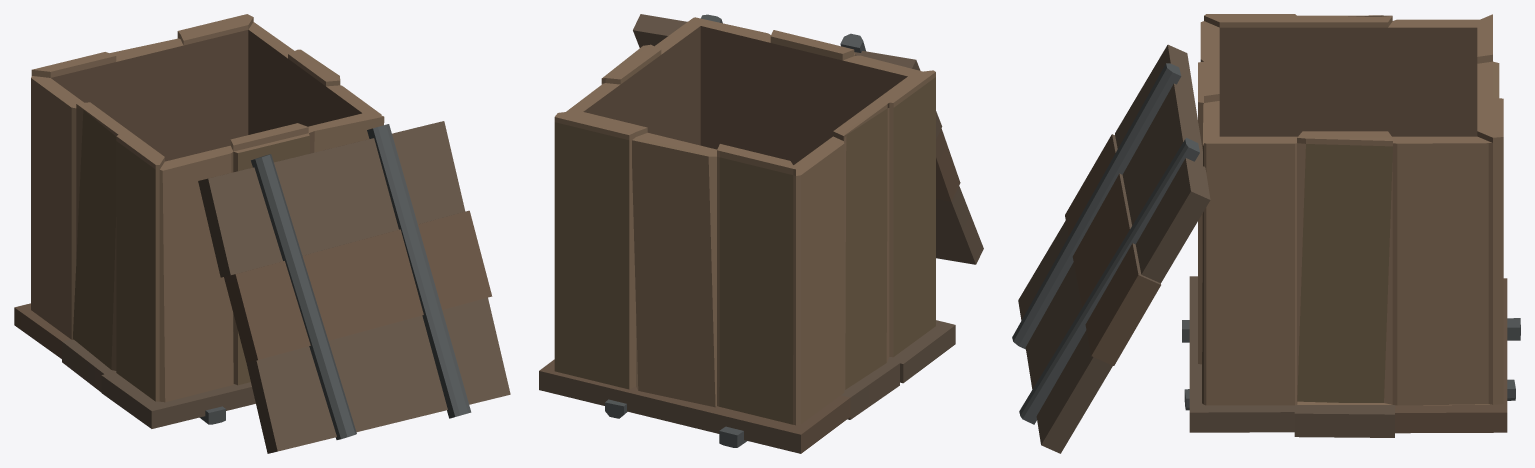
File: openCrate.fbx
The picture shows the model from 3 angles, left to right: view 1: azimuth 30°, elevation 25°; view 2: azimuth 150°, elevation 25°; view 3: azimuth 270°, elevation 25°; orthographic projection. The views are drawn at different scales.
Parts seen in each view (by area): view 1: createBody, crateTop, crateBottom, metalBar1, metalBar; view 2: createBody, crateBottom, crateTop, metalBar1; view 3: createBody, crateTop, crateBottom, metalBar, metalBar1 (×2).
Boxes of the visible parts, x1,y1,x2,y2 form: createBody: (31,14,384,402); crateTop: (198,121,510,453); crateBottom: (14,303,255,428); metalBar1: (367,124,471,418); metalBar: (251,154,356,439); createBody: (554,17,935,425); crateBottom: (539,320,955,453); crateTop: (633,14,983,264); metalBar1: (719,426,746,447); createBody: (1198,14,1503,405); crateTop: (1018,44,1210,453); crateBottom: (1189,276,1507,437); metalBar: (1012,63,1181,349); metalBar1 (×2): (1019,137,1520,424).
Bounding box in the file's own units: 67.11 × 56.99 × 88.08.
